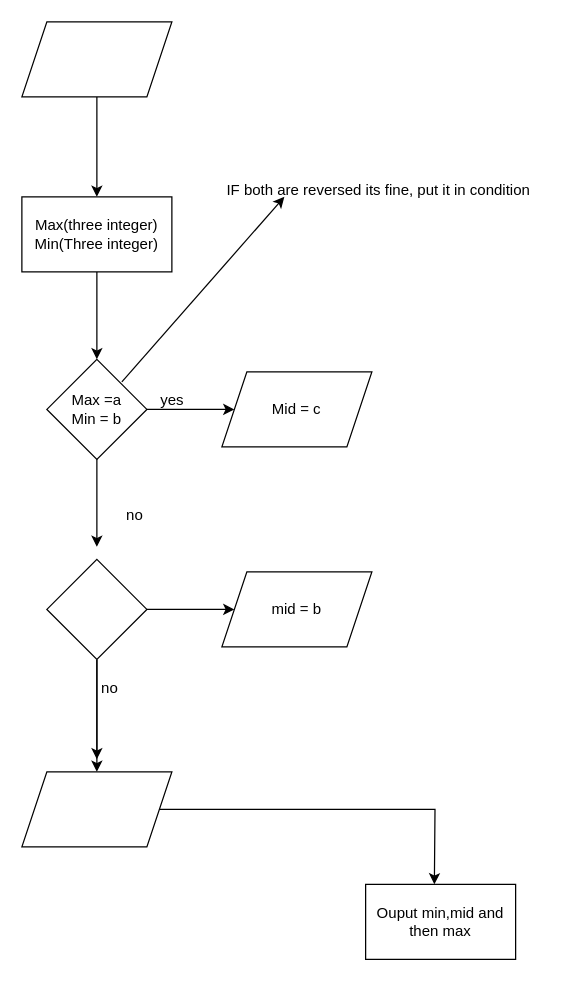
The diagram is 569 pixels wide and 981 high, and some of its shapes have lost their labels. Each missing label, with the box of its shape:
Max = c MIn = a: (46, 558, 147, 659)
Mid = a: (21, 771, 172, 847)
Take input from user, three integer: (21, 21, 172, 97)
